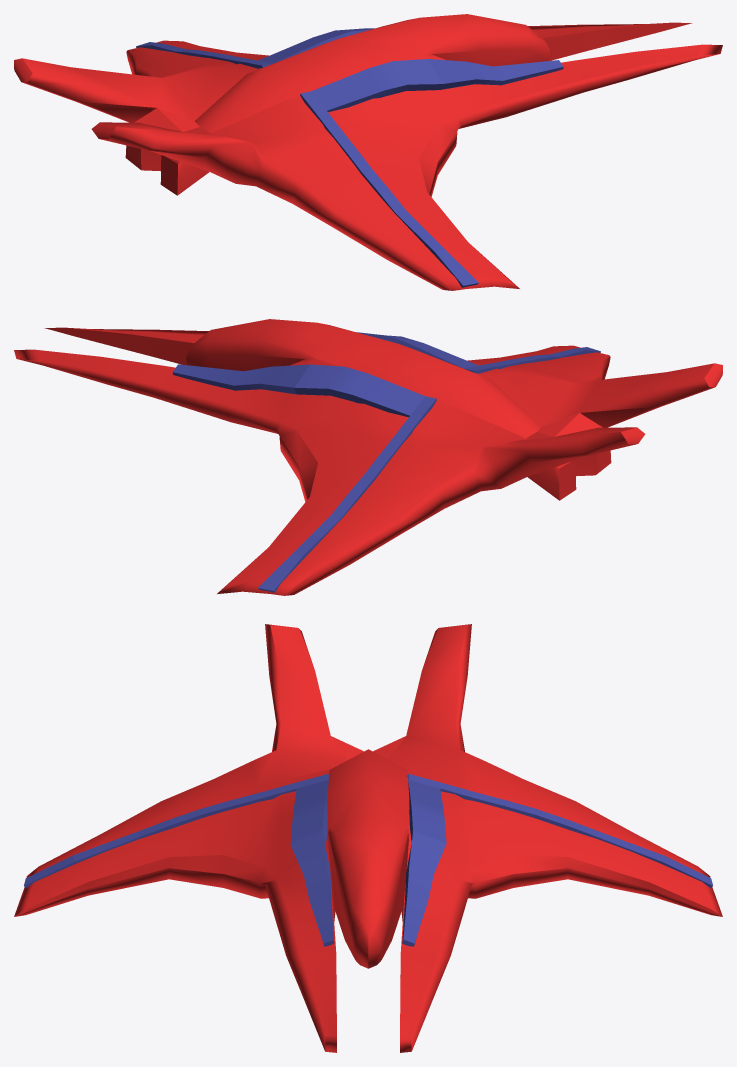
The model's file is SM_Player_Ship_Test.fbx.
The picture shows the model from 3 angles, top to bottom: view 1: azimuth 30°, elevation 25°; view 2: azimuth 150°, elevation 25°; view 3: azimuth 270°, elevation 25°; orthographic projection. The views are drawn at different scales.
Visible parts, largest first — view 1: Ship1, pCube17; view 2: Ship1, pCube17; view 3: Ship1, pCube17.
Part boxes in pixels (x1,y1,x2,y2): Ship1: (14, 14, 722, 290); pCube17: (136, 28, 563, 287); Ship1: (14, 319, 722, 595); pCube17: (172, 332, 600, 592); Ship1: (14, 624, 722, 1052); pCube17: (24, 774, 712, 946).
Bounding box in the file's own units: 8.79 × 1.84 × 7.95.
